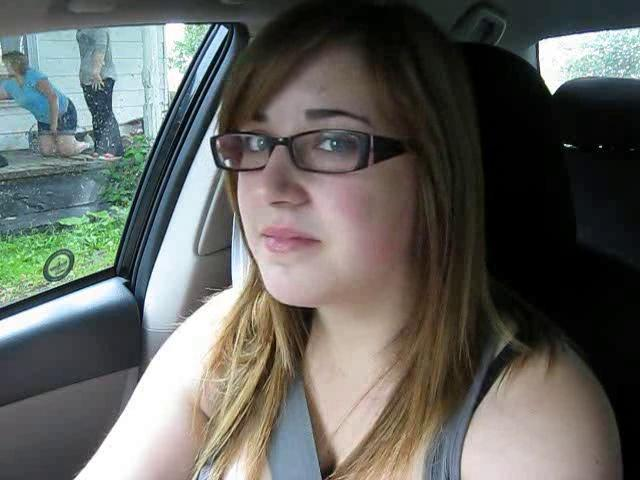no_yawn: (243, 215, 335, 267)
open_eyeL: (223, 125, 283, 167)
open_eyeR: (299, 120, 378, 171)
